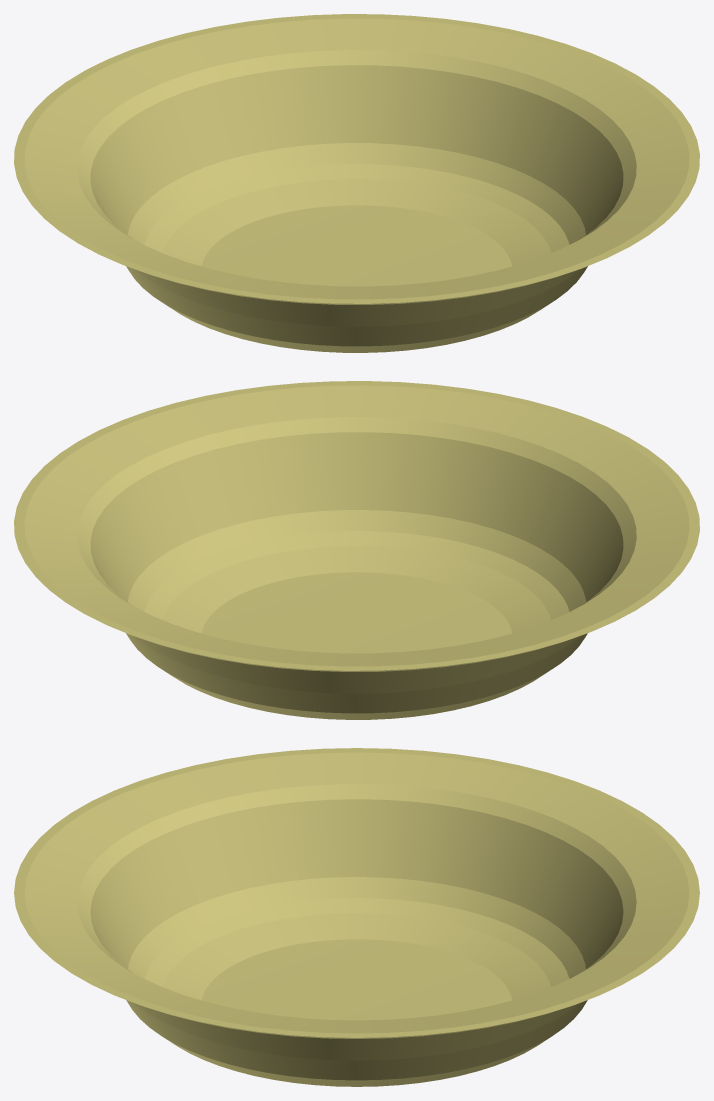
3 renders of one model, top to bottom at view 1: azimuth 30°, elevation 25°; view 2: azimuth 150°, elevation 25°; view 3: azimuth 270°, elevation 25°, orthographic.
Visible parts, largest first — view 1: bowl; view 2: bowl; view 3: bowl.
Boxes of the visible parts, bbox=[...] form: bowl: bbox=[14, 14, 699, 352]; bowl: bbox=[14, 381, 699, 719]; bowl: bbox=[14, 748, 699, 1086].
Bounding box in the file's own units: 0.26 × 0.0506 × 0.26.
